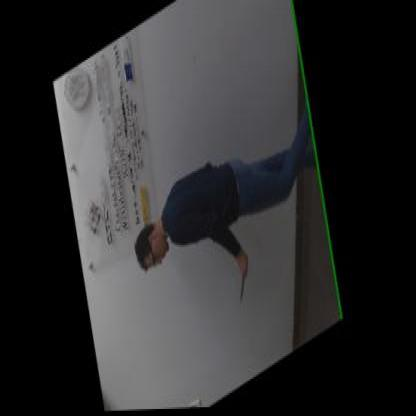knife: (234, 262, 256, 306)
